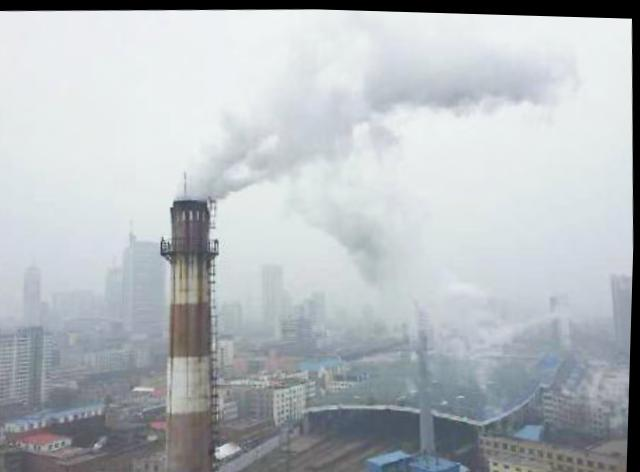smoke: (442, 11, 571, 127), (341, 21, 442, 154), (245, 71, 346, 178), (193, 137, 246, 193)
